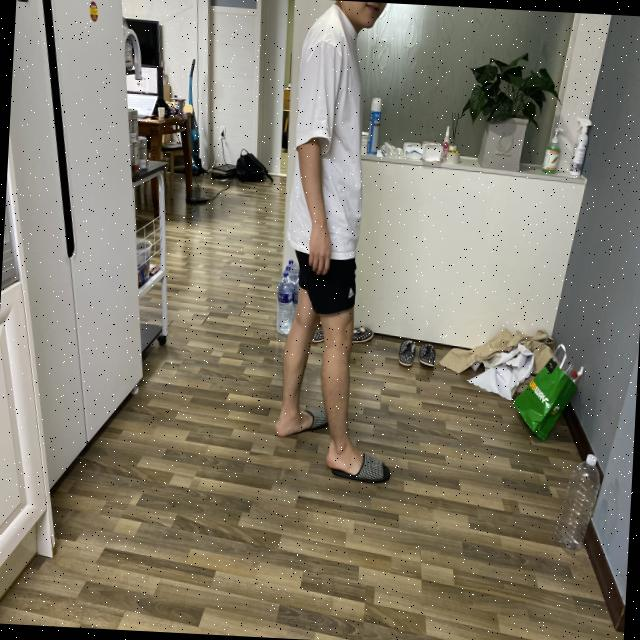no-boots: (315, 431, 403, 499), (266, 397, 334, 448)
